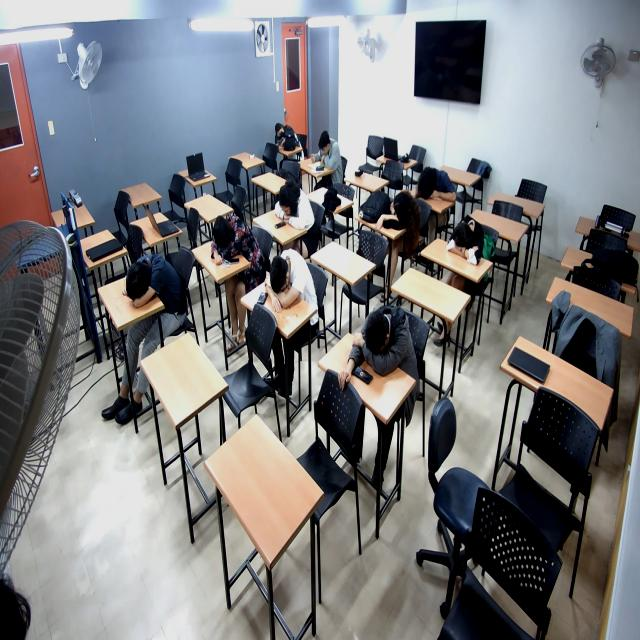sleep: (354, 301, 419, 382), (265, 250, 318, 317), (122, 252, 180, 313), (210, 212, 263, 271), (445, 212, 491, 271), (271, 180, 319, 233), (380, 187, 422, 235), (415, 167, 459, 209), (274, 123, 300, 151)
